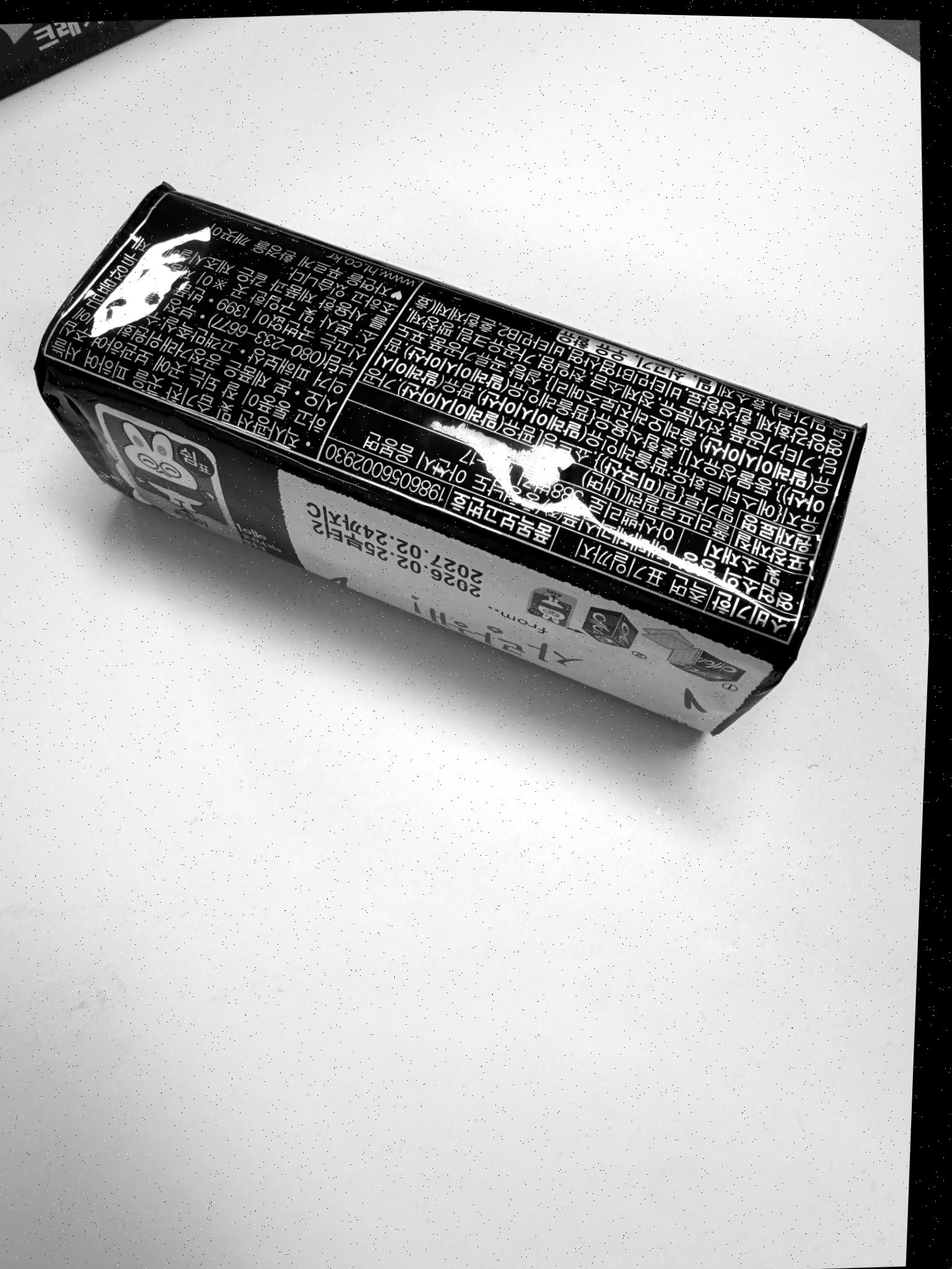cracker_ace: (35, 184, 866, 733)
